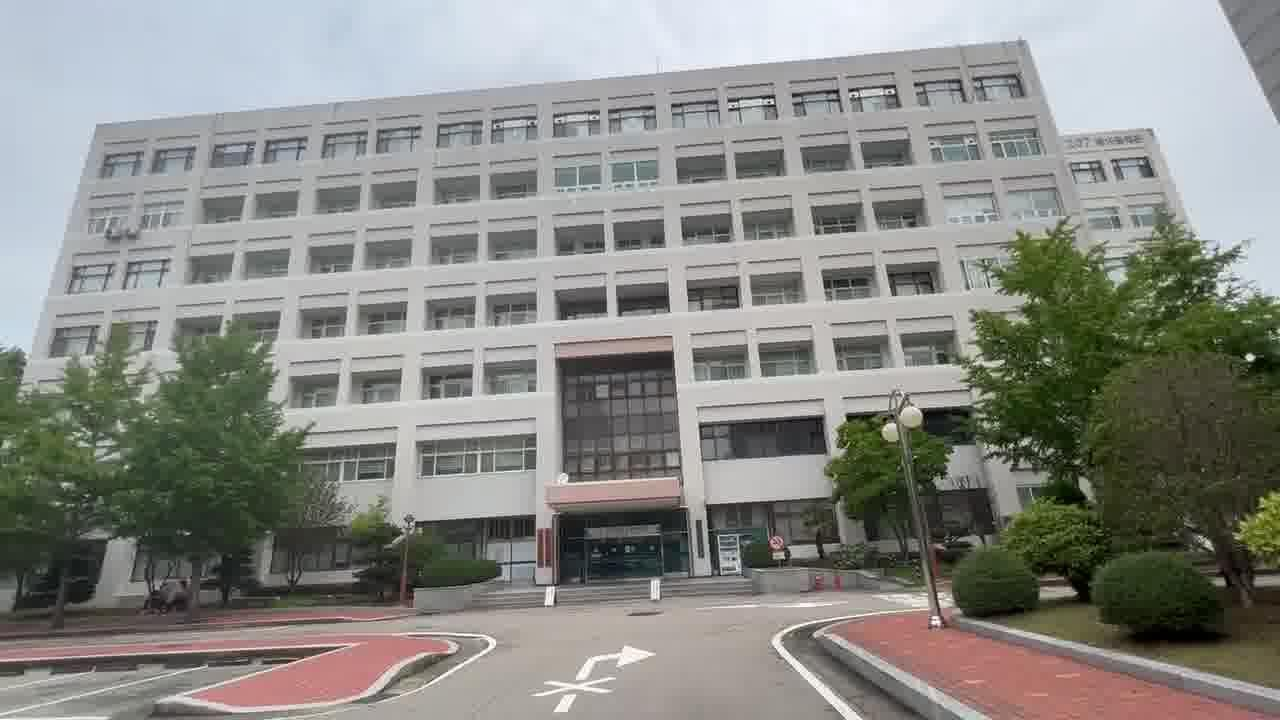building: (72, 63, 978, 348)
